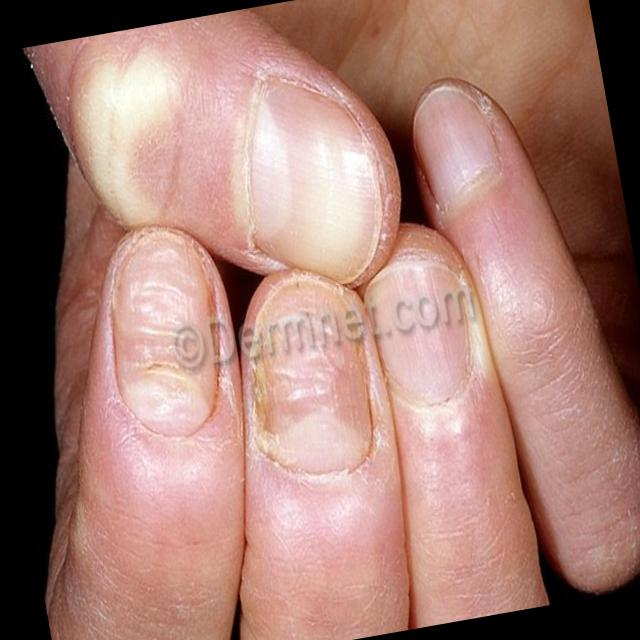Nail: (250, 79, 383, 280), (252, 279, 374, 477), (110, 234, 218, 439), (365, 263, 474, 406), (413, 87, 499, 211)
